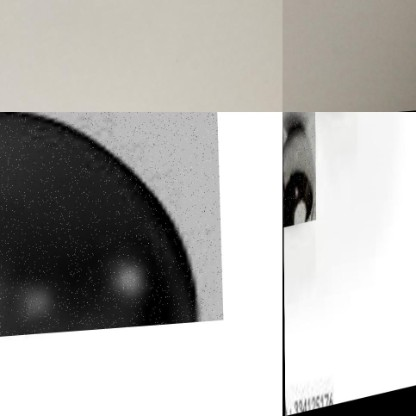ironball: (0, 111, 221, 337), (282, 111, 315, 227)
